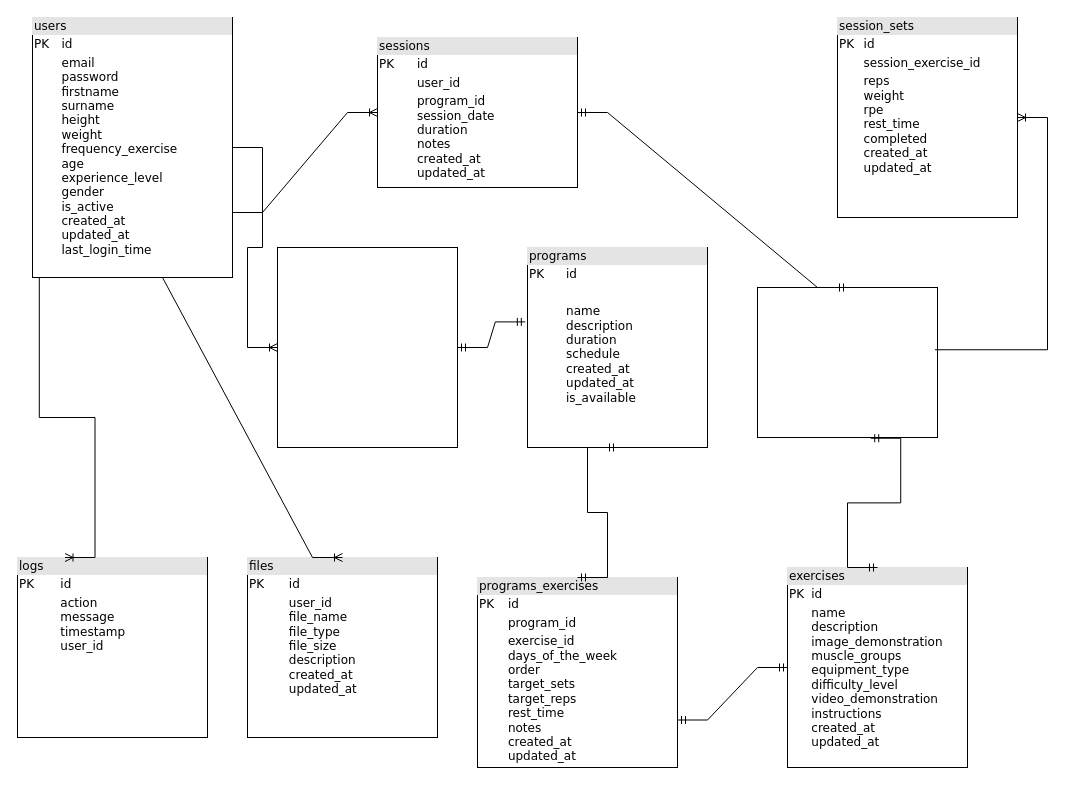
This 1073x785 diagram has some shape labels left out. Each missing label, with the centre of its shape:
"programs_users PK id user_id program_id is_active created_at updated_at" goes at point 367,347.
"sessions_exercises PK id session_id exercise_id order created_at updated_at" goes at point 847,362.
